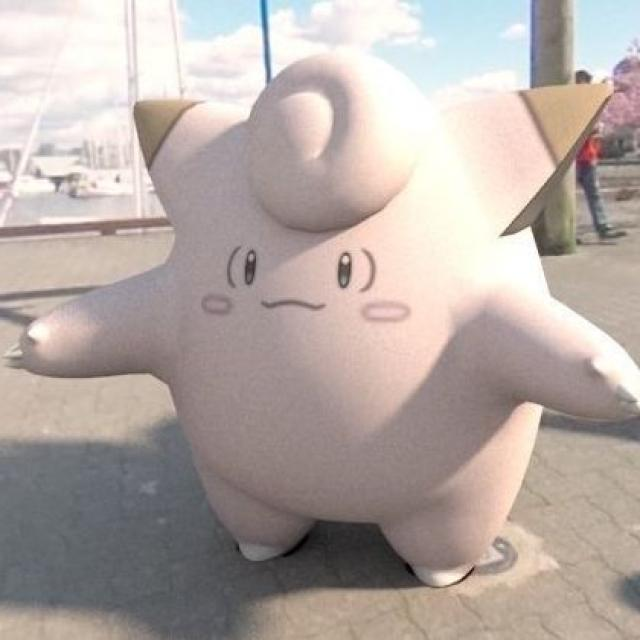Clefairy: (0, 65, 633, 600)
